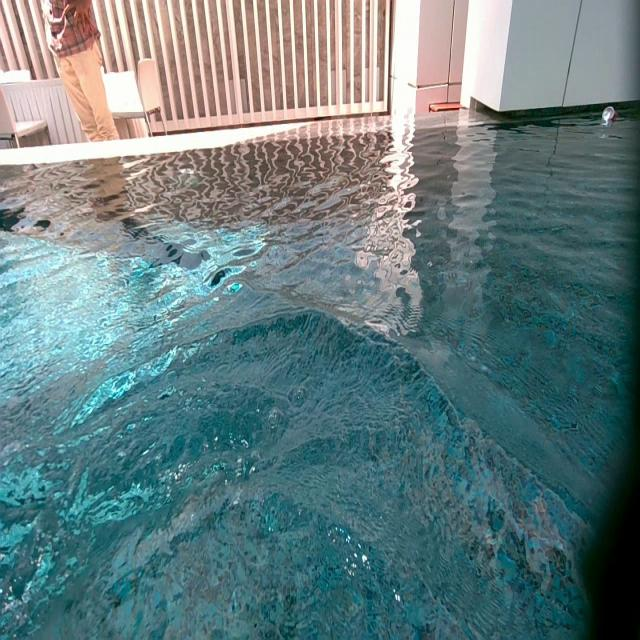Cans: (602, 106, 618, 124)
